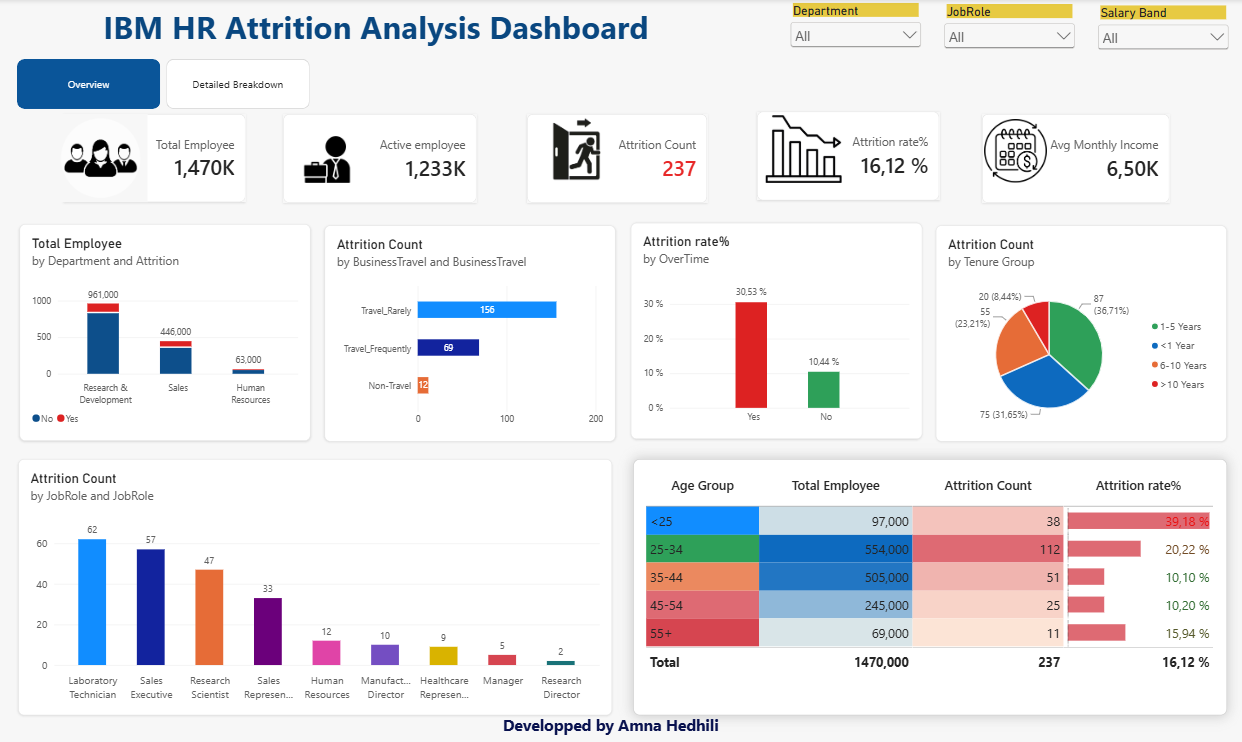

The dashboard page shown, as its layout file describes it:
{"tool":"powerbi","page":{"name":"Overview","canvas":[1700,1015],"ordinal":0},"visuals":[{"type":"slicer","fields":{"Values":["WA_Fn-UseC_-HR-Employee-Attrition.JobRole"]},"box":[1283.9,6.7,187.1,75],"z":0},{"type":"cardVisual","fields":{"Data":["measures table.Attrition rate%"]},"box":[1032.7,153.6,248.6,121],"z":0,"group":"g4"},{"type":"cardVisual","fields":{"Data":["measures table.Stayed employee"]},"box":[389.3,157.1,263,121],"z":0,"group":"g2"},{"type":"cardVisual","fields":{"Data":["measures table.Totale Employee Attrition"]},"box":[721.2,157.1,245.4,121],"z":0,"group":"g3"},{"type":"cardVisual","fields":{"Data":["measures table.Avg Monthly Income"]},"box":[1340.2,157.1,255.4,121],"z":0,"group":"g5"},{"type":"cardVisual","fields":{"Data":["measures table.Total Employee"]},"box":[90,157.2,248,120.3],"z":0,"group":"g1"},{"type":"slicer","fields":{"Values":["WA_Fn-UseC_-HR-Employee-Attrition.Department"]},"box":[1074.8,5,187,75],"z":1000},{"type":"image","box":[29.1,156.5,224.3,120.3],"z":1000,"group":"g1"},{"type":"image","box":[1018,158,158,92],"z":1000,"group":"g4"},{"type":"image","box":[703.6,158.2,169.9,91.7],"z":1000,"group":"g3"},{"type":"image","box":[396,161.9,105.5,113],"z":1000,"group":"g2"},{"type":"image","box":[1332.6,163.5,105,86],"z":1000,"group":"g5"},{"type":"slicer","fields":{"Values":["WA_Fn-UseC_-HR-Employee-Attrition.Salary Band"]},"box":[1493.1,8.3,187,75],"z":2000},{"type":"textbox","box":[144,9.1,828,150],"z":3000},{"type":"columnChart","fields":{"Category":["WA_Fn-UseC_-HR-Employee-Attrition.Department"],"Y":["measures table.Total Employee"],"Series":["WA_Fn-UseC_-HR-Employee-Attrition.Attrition"]},"box":[30.7,306.9,396,295],"z":4000},{"type":"group","id":"g1","title":"Group 1","box":[29.1,156.5,308.9,121],"z":5000},{"type":"group","id":"g2","title":"Group 2","box":[389.3,157.1,263,121],"z":6000},{"type":"group","id":"g3","title":"Group 3","box":[703.6,157.1,263,121],"z":7000},{"type":"group","id":"g4","title":"Group 4","box":[1018,153.6,263.3,121],"z":8000},{"type":"group","id":"g5","title":"Group 5","box":[1332.6,157.1,263,121],"z":9000},{"type":"barChart","fields":{"Category":["WA_Fn-UseC_-HR-Employee-Attrition.BusinessTravel"],"Y":["measures table.Attrition Count"],"Series":["WA_Fn-UseC_-HR-Employee-Attrition.BusinessTravel"]},"box":[446.3,307.8,396,294.1],"z":10000},{"type":"columnChart","fields":{"Y":["measures table.Attrition Count"],"Category":["WA_Fn-UseC_-HR-Employee-Attrition.JobRole"],"Series":["WA_Fn-UseC_-HR-Employee-Attrition.JobRole"]},"box":[29.7,625.8,808.1,348.5],"z":11000},{"type":"pieChart","fields":{"Y":["measures table.Attrition Count"],"Category":["WA_Fn-UseC_-HR-Employee-Attrition.Tenure Group"]},"box":[1277.8,307.8,396,294.1],"z":12000},{"type":"clusteredColumnChart","fields":{"Y":["measures table.Attrition rate%"],"Category":["WA_Fn-UseC_-HR-Employee-Attrition.OverTime"]},"box":[861.8,305,396.4,294.1],"z":13000},{"type":"tableEx","fields":{"Values":["WA_Fn-UseC_-HR-Employee-Attrition.Age Group","measures table.Total Employee","measures table.Attrition Count","measures table.Attrition rate%"]},"box":[866.1,625.8,808.1,348.5],"z":14000},{"type":"pageNavigator","box":[27.7,81.3,399.1,68.4],"z":15000},{"type":"textbox","box":[420,973,830,42],"z":15001}]}

Visuals, with their boxes in screenshot pixels (x1, y1, x2, y2), scaled from the page's 1700x1015 canvas onto the 1242x742 screenshot:
slicer - WA_Fn-UseC_-HR-Employee-Attrition.JobRole: crop(938, 5, 1075, 60)
cardVisual - measures table.Attrition rate%: crop(754, 112, 936, 201)
cardVisual - measures table.Stayed employee: crop(284, 115, 477, 203)
cardVisual - measures table.Totale Employee Attrition: crop(527, 115, 706, 203)
cardVisual - measures table.Avg Monthly Income: crop(979, 115, 1166, 203)
cardVisual - measures table.Total Employee: crop(66, 115, 247, 203)
slicer - WA_Fn-UseC_-HR-Employee-Attrition.Department: crop(785, 4, 922, 58)
image: crop(21, 114, 185, 202)
image: crop(744, 116, 859, 183)
image: crop(514, 116, 638, 183)
image: crop(289, 118, 366, 201)
image: crop(974, 120, 1050, 182)
slicer - WA_Fn-UseC_-HR-Employee-Attrition.Salary Band: crop(1091, 6, 1227, 61)
textbox: crop(105, 7, 710, 116)
columnChart - WA_Fn-UseC_-HR-Employee-Attrition.Department x measures table.Total Employee: crop(22, 224, 312, 440)
"Group 1" group: crop(21, 114, 247, 203)
"Group 2" group: crop(284, 115, 477, 203)
"Group 3" group: crop(514, 115, 706, 203)
"Group 4" group: crop(744, 112, 936, 201)
"Group 5" group: crop(974, 115, 1166, 203)
barChart - WA_Fn-UseC_-HR-Employee-Attrition.BusinessTravel x measures table.Attrition Count: crop(326, 225, 615, 440)
columnChart - measures table.Attrition Count x WA_Fn-UseC_-HR-Employee-Attrition.JobRole: crop(22, 457, 612, 712)
pieChart - measures table.Attrition Count x WA_Fn-UseC_-HR-Employee-Attrition.Tenure Group: crop(934, 225, 1223, 440)
clusteredColumnChart - measures table.Attrition rate% x WA_Fn-UseC_-HR-Employee-Attrition.OverTime: crop(630, 223, 919, 438)
tableEx - WA_Fn-UseC_-HR-Employee-Attrition.Age Group x measures table.Total Employee: crop(633, 457, 1223, 712)
pageNavigator: crop(20, 59, 312, 109)
textbox: crop(307, 711, 913, 741)
